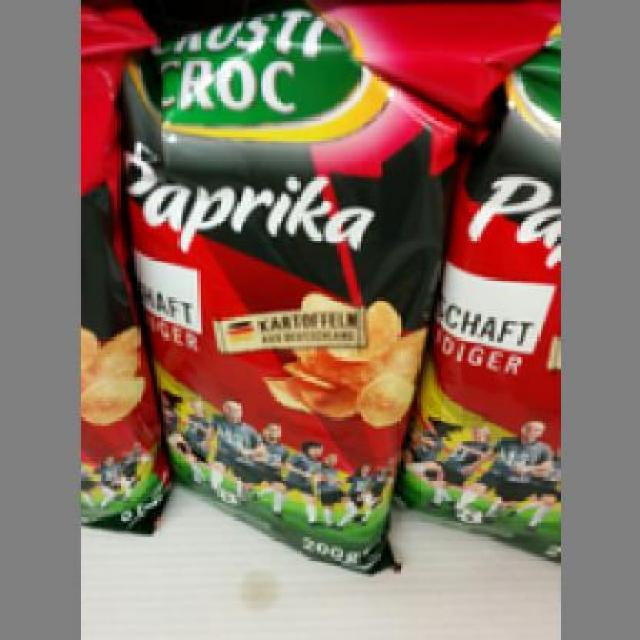Chips: (123, 9, 463, 568), (388, 22, 558, 572)
